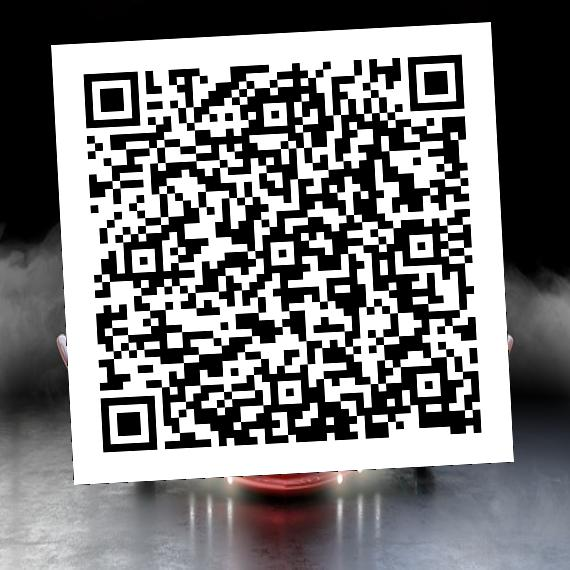qr_code: (51, 22, 513, 484)
